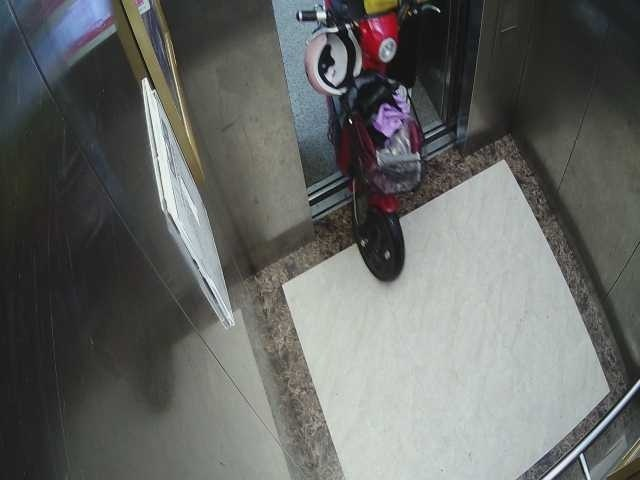emotor: (289, 1, 459, 288)
